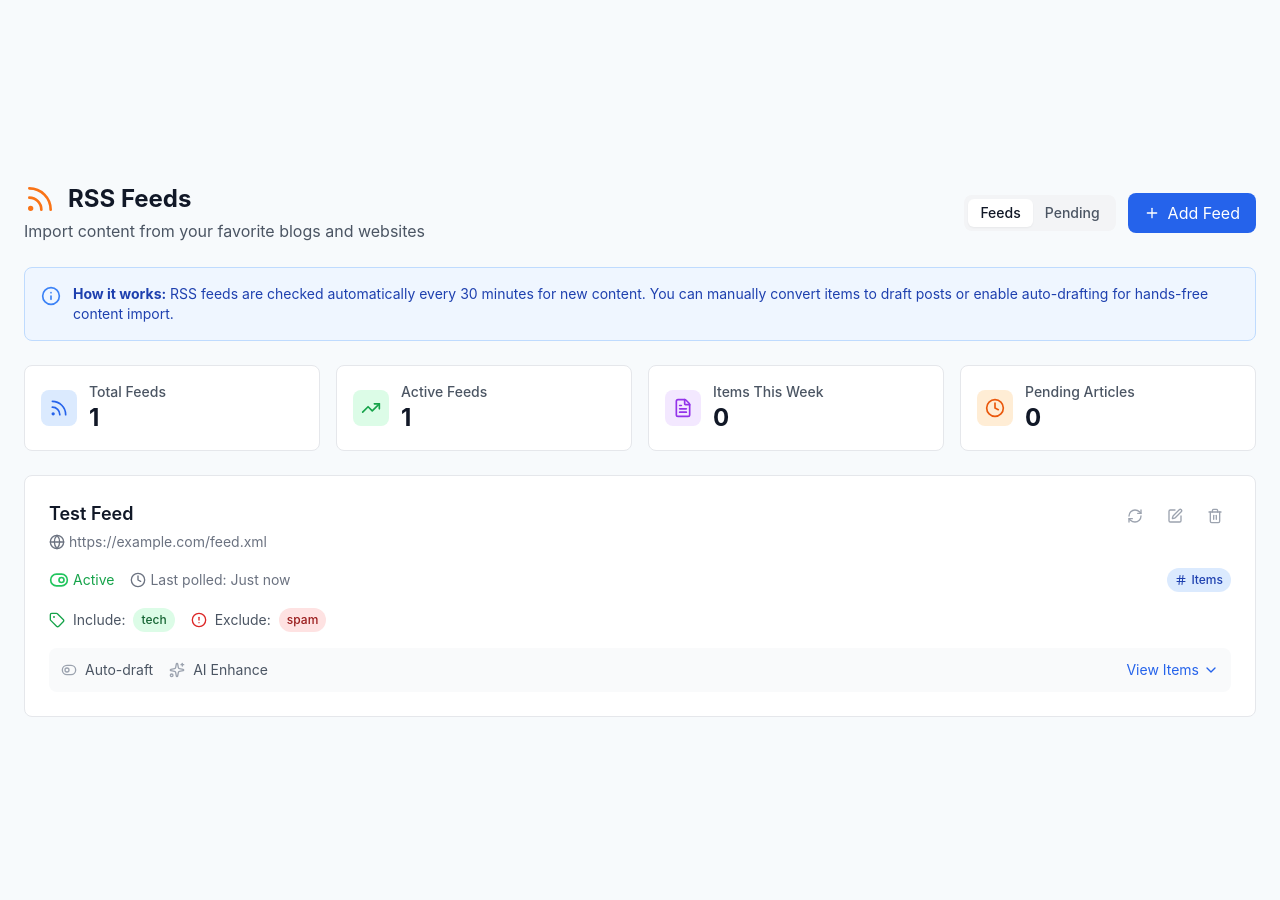
Scenario: RSSPage › Edit Feed Modal › edit modal supports keyword management
Expected: the heading "Test Feed" is shown, [49,503,133,524]
// Open edit modal
Click the button titled "Edit feed": click(1175, 516) [1159,500,1191,532]
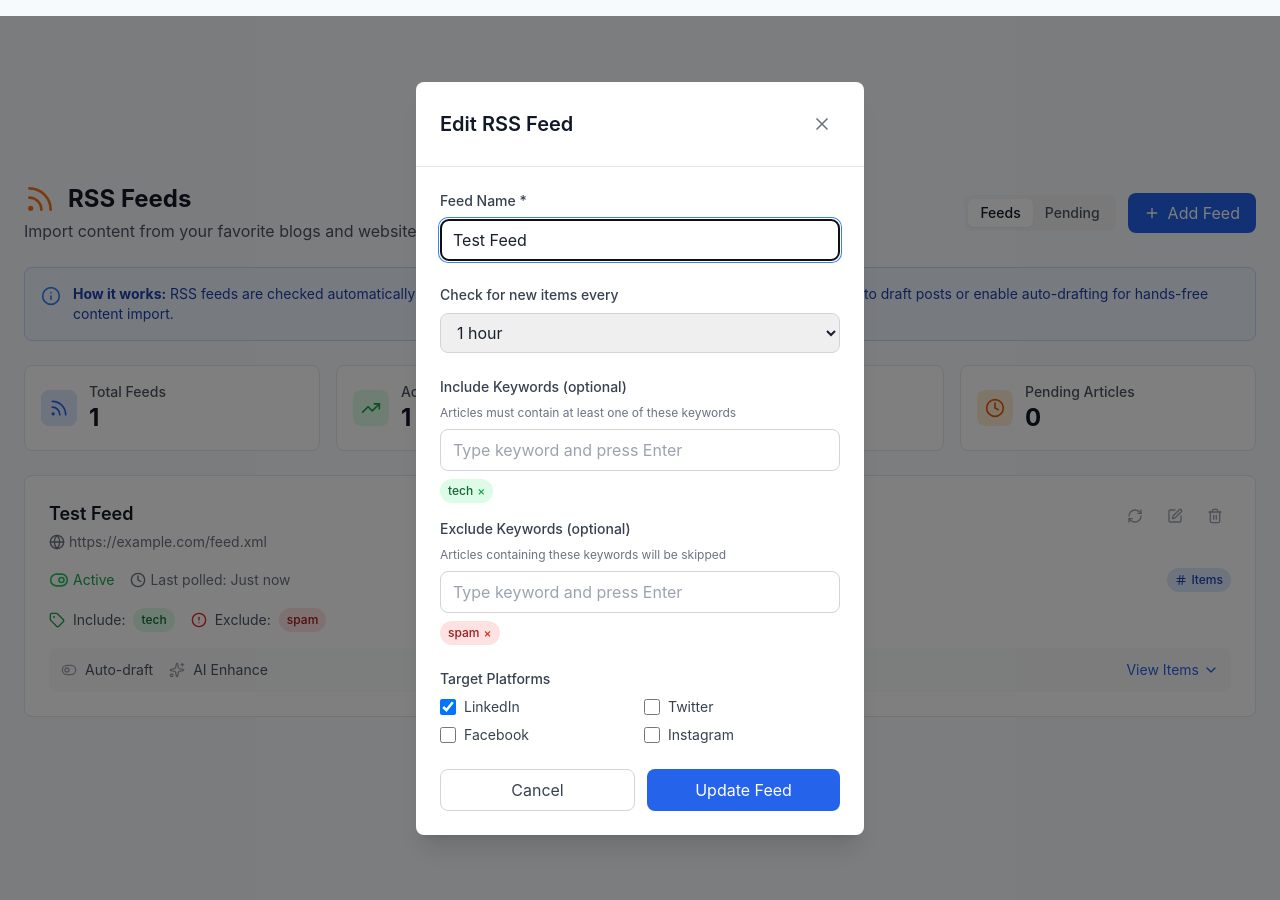
Expected: the heading "Edit RSS Feed" is shown, [440,110,573,138]
Expected: the number of fields with placeholder "Type keyword and press Enter" is 2, [440,428,840,470]; [440,570,840,612]
